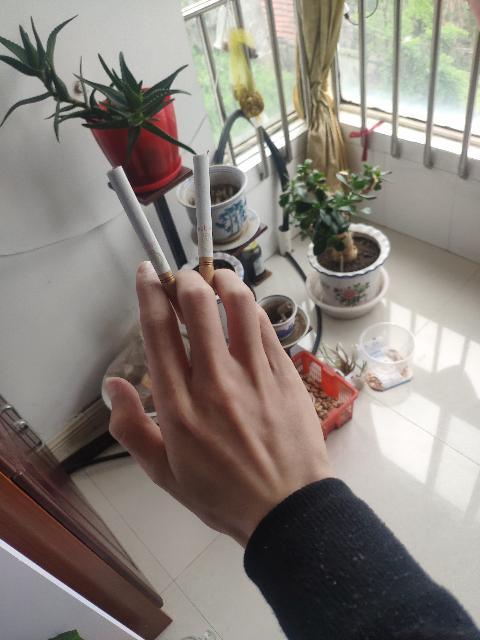Cigarette: (108, 166, 190, 324), (192, 154, 216, 304)
